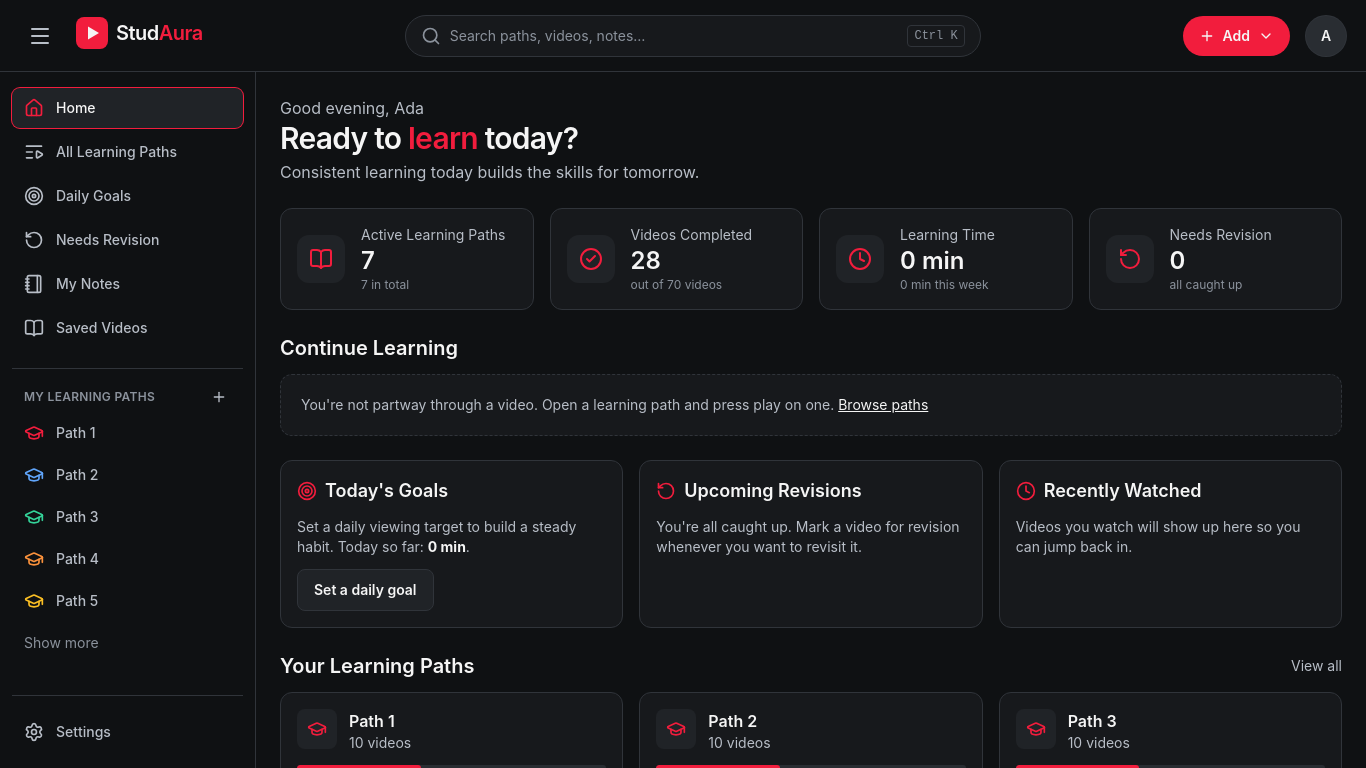
sidebar learning paths › shows the first five paths and reveals the rest on demand
Expected: the navigation bar named "Main" is shown, [0, 72, 255, 767]
Expected: the link "Path 5" is shown, [24, 591, 98, 611]
Click the button "Show more" at coordinates (128, 643), box [12, 625, 243, 661]
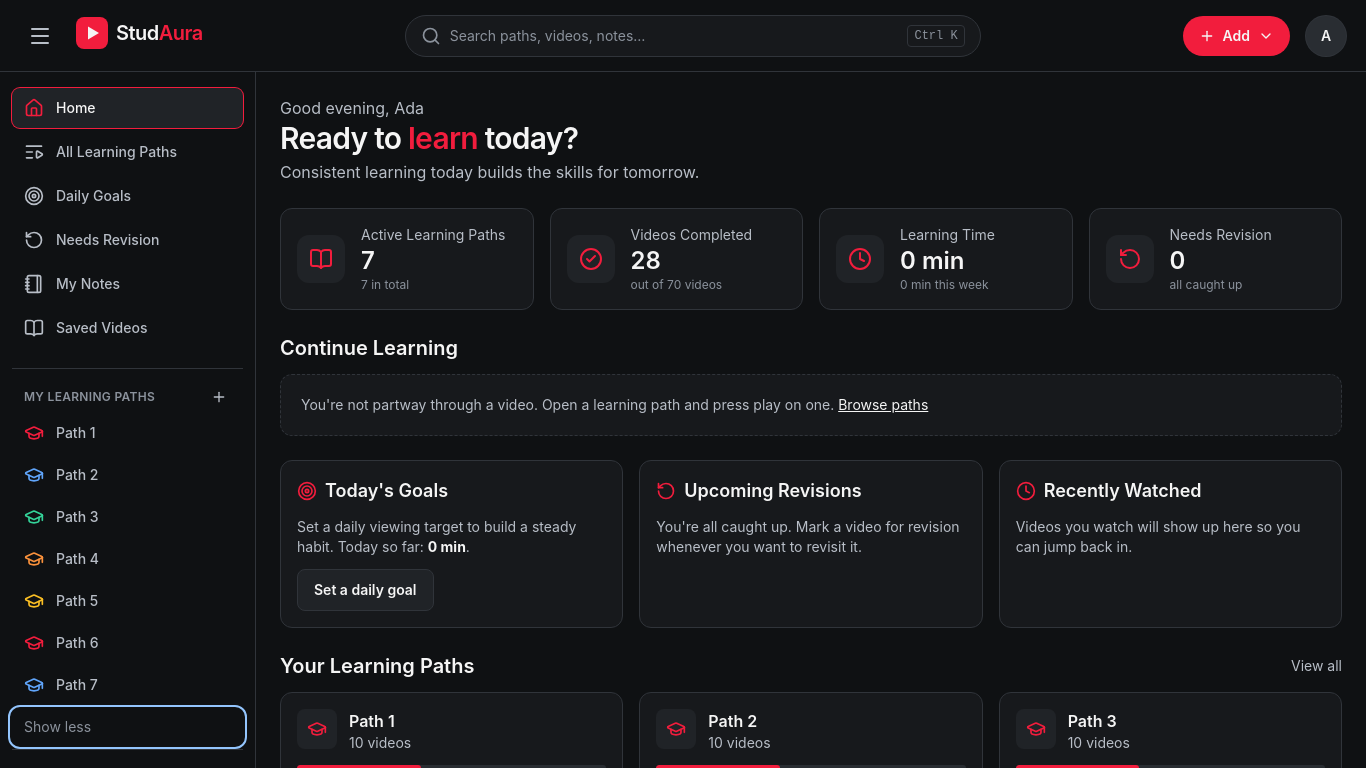
Expected: the link "Path 7" is shown, [24, 675, 98, 695]
Click the button "Show less" at coordinates (128, 727), box [12, 709, 243, 745]
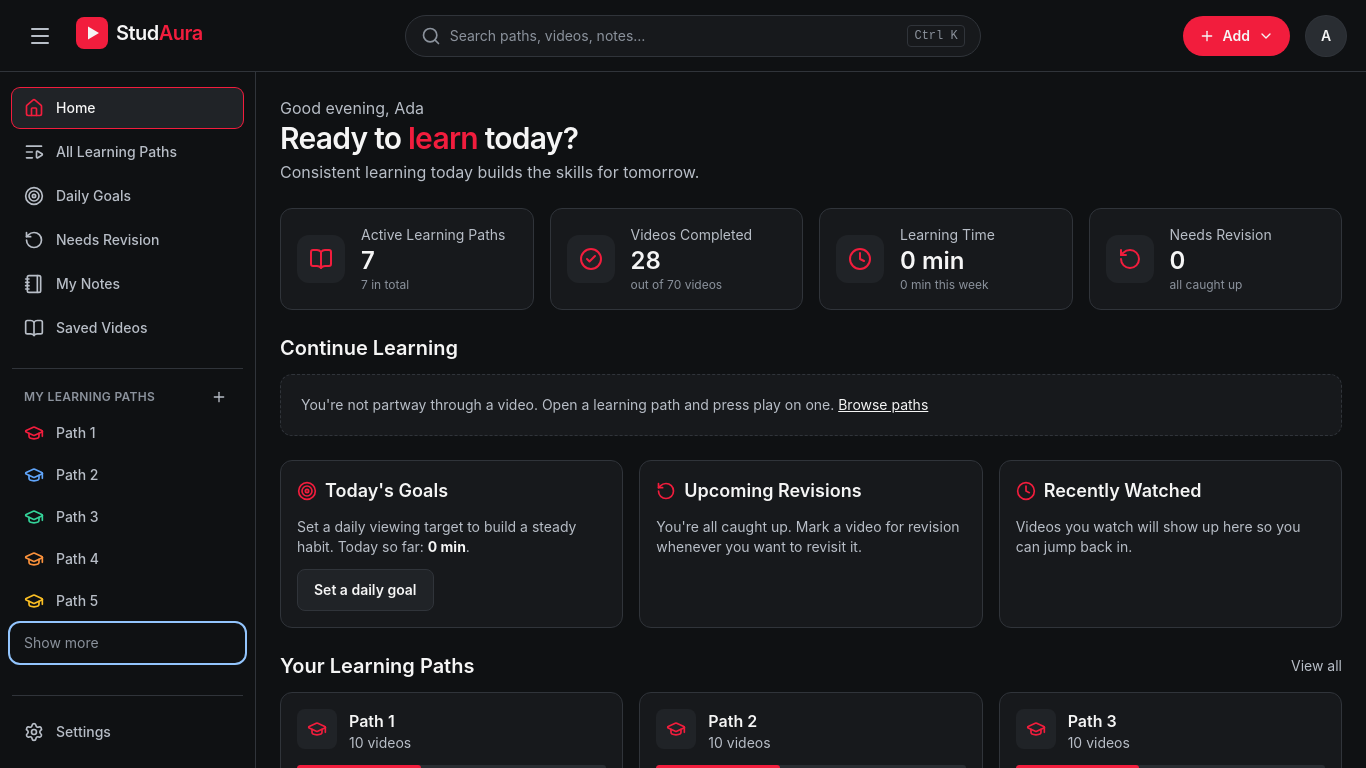
Expected: the link "Path 7" is gone
